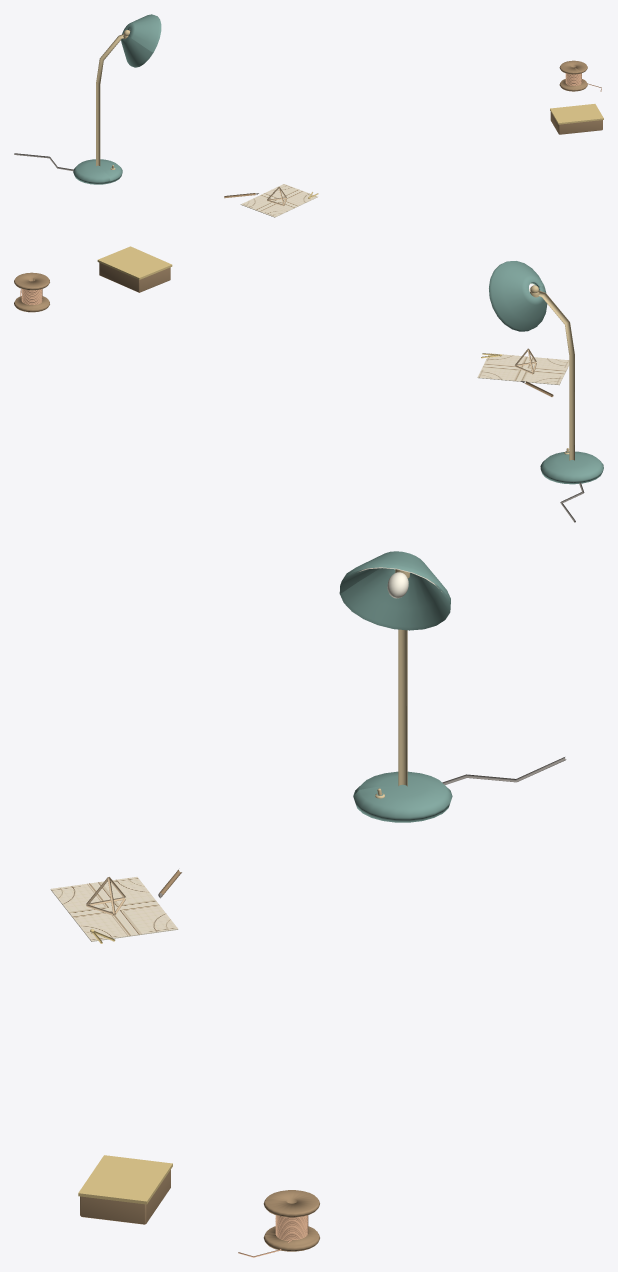
The model's file is foreground_desk_props.glb.
3 renders of one model, top to bottom at view 1: azimuth 30°, elevation 25°; view 2: azimuth 150°, elevation 25°; view 3: azimuth 270°, elevation 25°, orthographic. The views are drawn at different scales.
Visible parts, largest first — view 1: Foreground_Desk_Props_Root, Desk_Lamp_Shade, Desk_Lamp_Base, Desk_Lamp_Hardware, Copper_Wire_Reel; view 2: Foreground_Desk_Props_Root, Desk_Lamp_Shade, Desk_Lamp_Base, Desk_Lamp_Hardware, Copper_Wire_Reel; view 3: Foreground_Desk_Props_Root, Desk_Lamp_Shade, Desk_Lamp_Base, Desk_Lamp_Hardware, Copper_Wire_Reel.
Part boxes in pixels (x1,y1,x2,y2): Foreground_Desk_Props_Root: [224, 104, 603, 217]; Desk_Lamp_Shade: [121, 14, 161, 67]; Desk_Lamp_Base: [73, 159, 122, 184]; Desk_Lamp_Hardware: [14, 34, 127, 170]; Copper_Wire_Reel: [559, 60, 587, 91]; Foreground_Desk_Props_Root: [97, 246, 569, 396]; Desk_Lamp_Shade: [489, 261, 547, 331]; Desk_Lamp_Base: [540, 451, 603, 484]; Desk_Lamp_Hardware: [530, 290, 584, 522]; Copper_Wire_Reel: [14, 272, 49, 312]; Foreground_Desk_Props_Root: [50, 869, 181, 1224]; Desk_Lamp_Shade: [339, 551, 450, 630]; Desk_Lamp_Base: [353, 771, 452, 822]; Desk_Lamp_Hardware: [395, 569, 566, 786]; Copper_Wire_Reel: [263, 1190, 319, 1251].
Bounding box in the file's own units: 21.24 × 5.84 × 9.32.
Materials: 10 (1 with a texture image).
